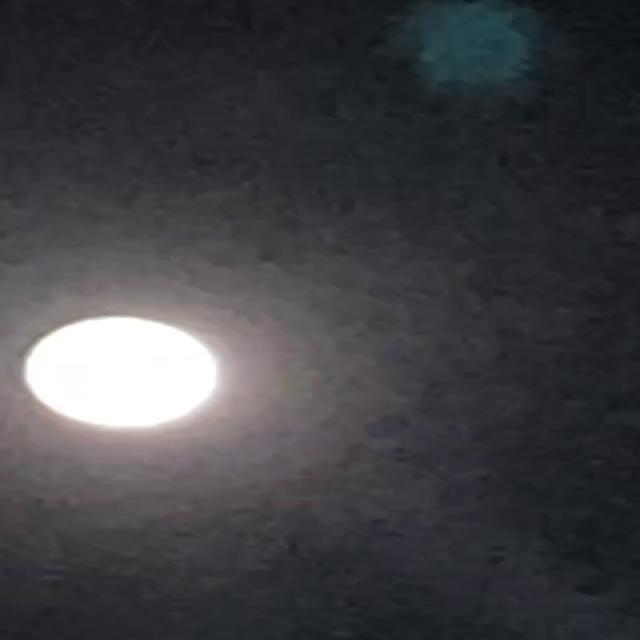moon: (18, 305, 248, 449)
